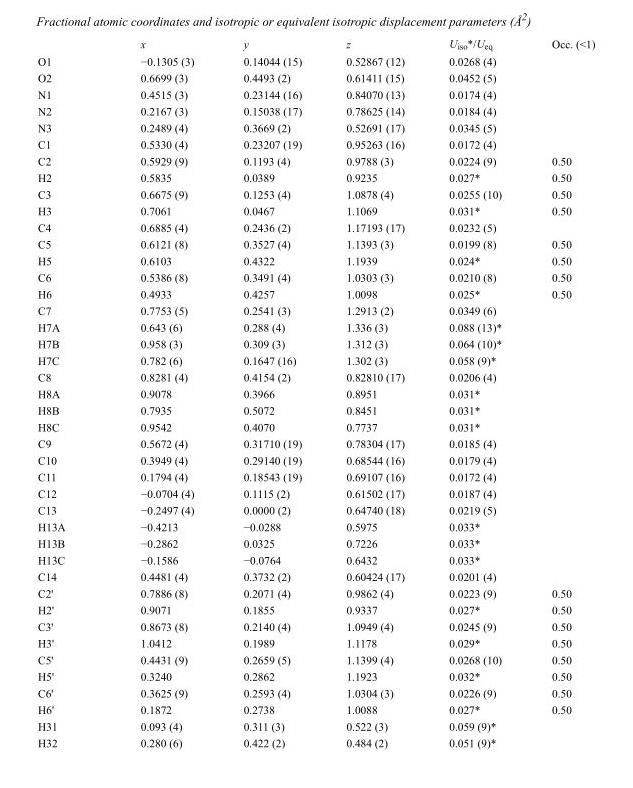table: (37, 36, 594, 748)
table column: (102, 36, 218, 748), (218, 36, 323, 748), (323, 36, 426, 748), (426, 36, 526, 748), (526, 36, 594, 748), (37, 36, 102, 748)
table column header: (37, 36, 594, 52)
table row: (37, 52, 594, 69), (37, 85, 594, 102), (37, 102, 594, 119), (37, 135, 594, 152), (37, 168, 594, 185), (37, 185, 594, 202), (37, 218, 594, 235), (37, 235, 594, 252), (37, 268, 594, 285), (37, 301, 594, 318), (37, 318, 594, 335), (37, 351, 594, 368), (37, 368, 594, 385), (37, 401, 594, 418), (37, 434, 594, 451), (37, 451, 594, 468), (37, 484, 594, 501), (37, 501, 594, 518), (37, 534, 594, 551), (37, 567, 594, 584), (37, 584, 594, 601), (37, 617, 594, 634), (37, 634, 594, 651), (37, 667, 594, 684), (37, 700, 594, 717), (37, 717, 594, 734), (37, 36, 594, 52), (37, 69, 594, 85), (37, 119, 594, 135), (37, 152, 594, 168), (37, 202, 594, 218), (37, 252, 594, 268), (37, 285, 594, 301), (37, 335, 594, 351), (37, 385, 594, 401), (37, 418, 594, 434), (37, 468, 594, 484), (37, 518, 594, 534), (37, 551, 594, 567), (37, 601, 594, 617), (37, 651, 594, 667), (37, 684, 594, 700), (37, 734, 594, 748)
